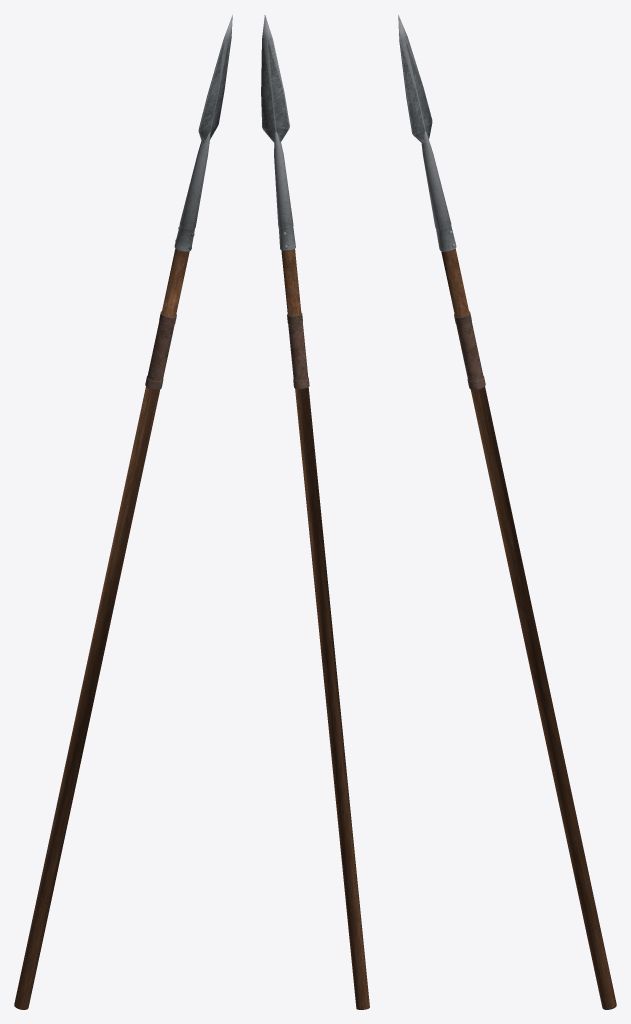
File: spear.glb
3 views of the same model, side by side, from view 1: azimuth 90°, elevation 25°; view 2: azimuth 210°, elevation 25°; view 3: azimuth 270°, elevation 25° (orthographic). The views are drawn at different scales.
Visible parts, largest first — view 1: weapon; view 2: weapon; view 3: weapon.
Part boxes in pixels (<box>): weapon: <box>14,15,232,1009</box>; weapon: <box>261,15,369,1009</box>; weapon: <box>398,15,616,1009</box>.
Bounding box in the file's own units: 0.0431 × 2 × 0.3986.
Materials: 3 (3 with a texture image).
